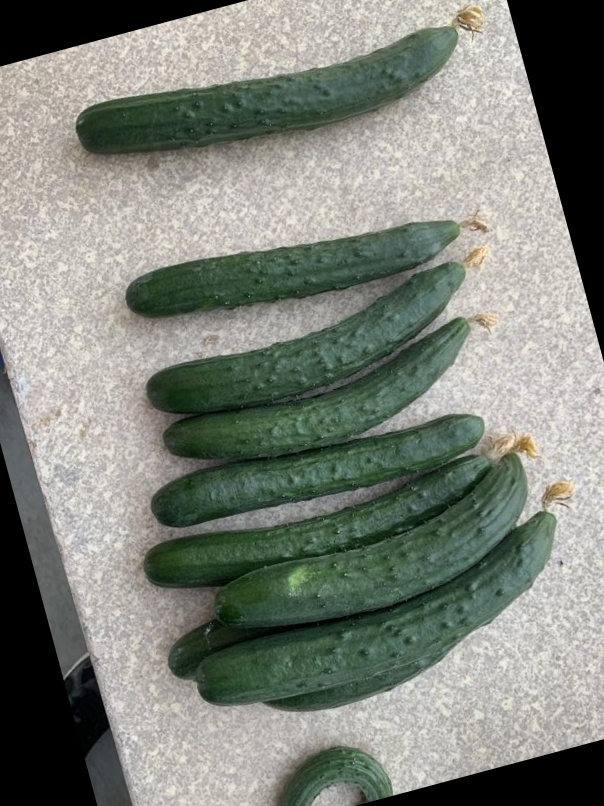mature: (191, 507, 560, 704), (72, 17, 472, 161), (131, 454, 491, 598), (211, 463, 525, 627), (136, 260, 466, 416), (159, 316, 472, 464), (122, 210, 464, 331), (148, 409, 482, 531)
